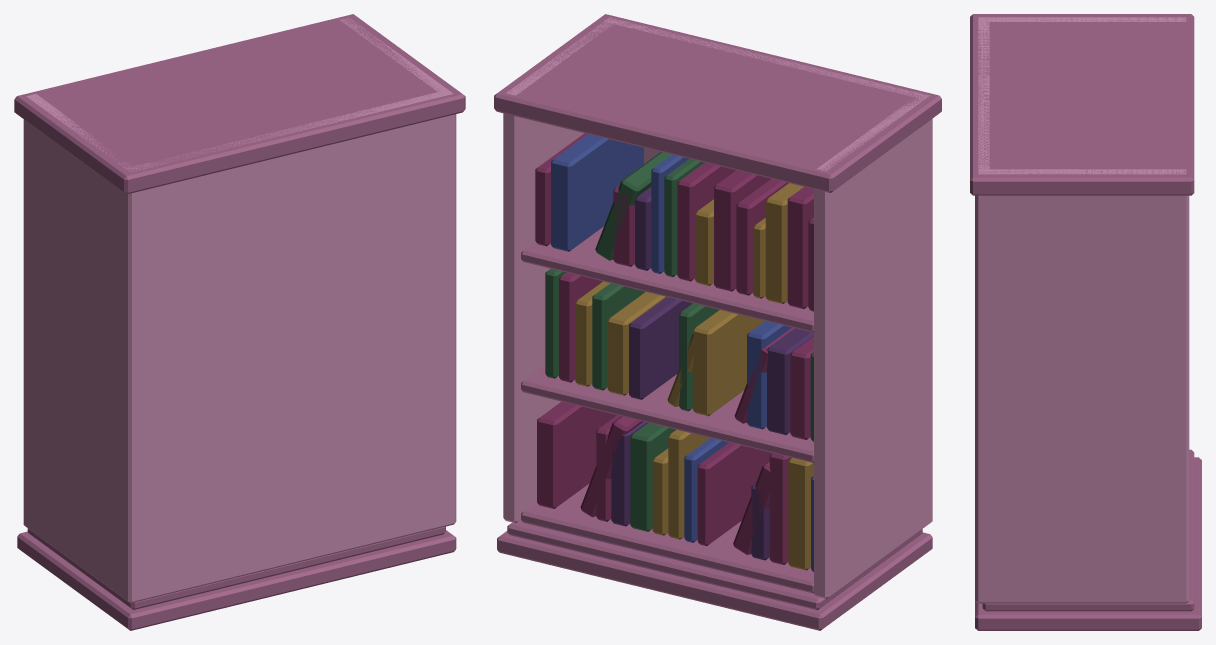
File: pink_dungeon_bookcase_v0.glb
3 views of the same model, side by side, from view 1: azimuth 30°, elevation 25°; view 2: azimuth 150°, elevation 25°; view 3: azimuth 270°, elevation 25° (orthographic).
Visible parts, largest first — view 1: pink_dungeon_bookcase_v0; view 2: pink_dungeon_bookcase_v0; view 3: pink_dungeon_bookcase_v0.
Part boxes in pixels (x1,y1,x2,y2): pink_dungeon_bookcase_v0: (14, 14, 465, 630); pink_dungeon_bookcase_v0: (494, 14, 941, 630); pink_dungeon_bookcase_v0: (970, 14, 1201, 630).
Bounding box in the file's own units: 1.56 × 2 × 0.92.
